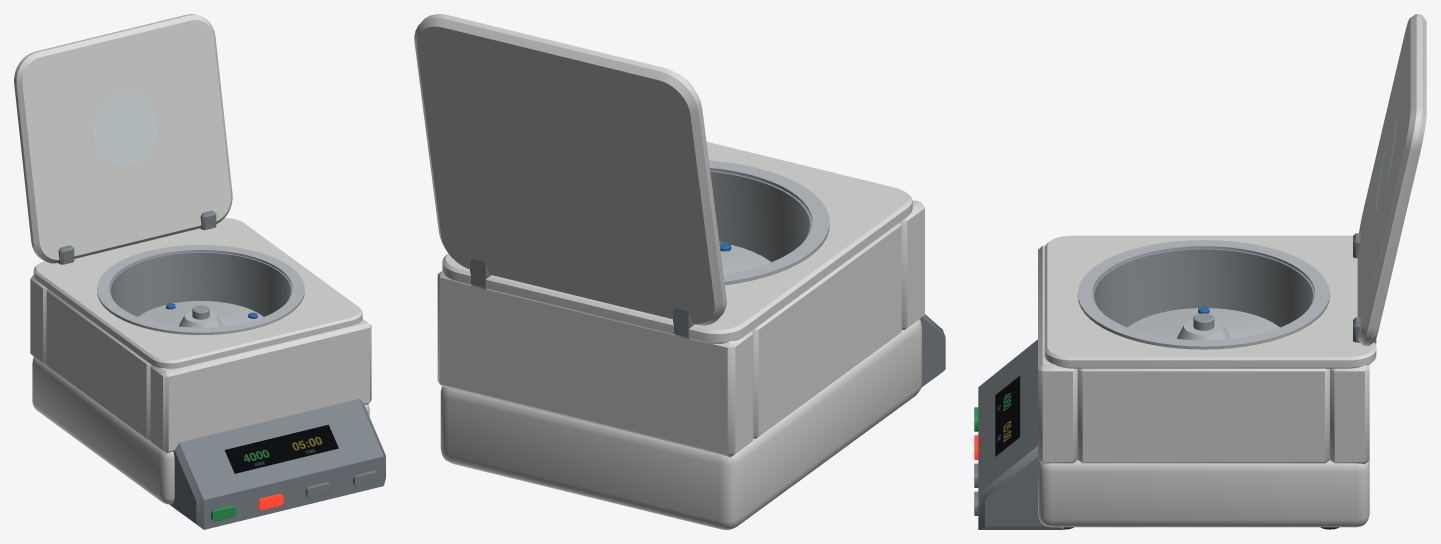
Rendered from centrifuge.glb.
3 views of the same model, side by side, from view 1: azimuth 30°, elevation 25°; view 2: azimuth 150°, elevation 25°; view 3: azimuth 270°, elevation 25° (orthographic). The views are drawn at different scales.
Visible parts, largest first — view 1: Centrifuge; view 2: Centrifuge; view 3: Centrifuge.
Part boxes in pixels (x1,y1,x2,y2): Centrifuge: (14, 14, 385, 529); Centrifuge: (414, 14, 945, 529); Centrifuge: (974, 14, 1426, 529).
Bounding box in the file's own units: 0.44 × 0.6896 × 0.682.
Materials: 12 (1 with a texture image).
